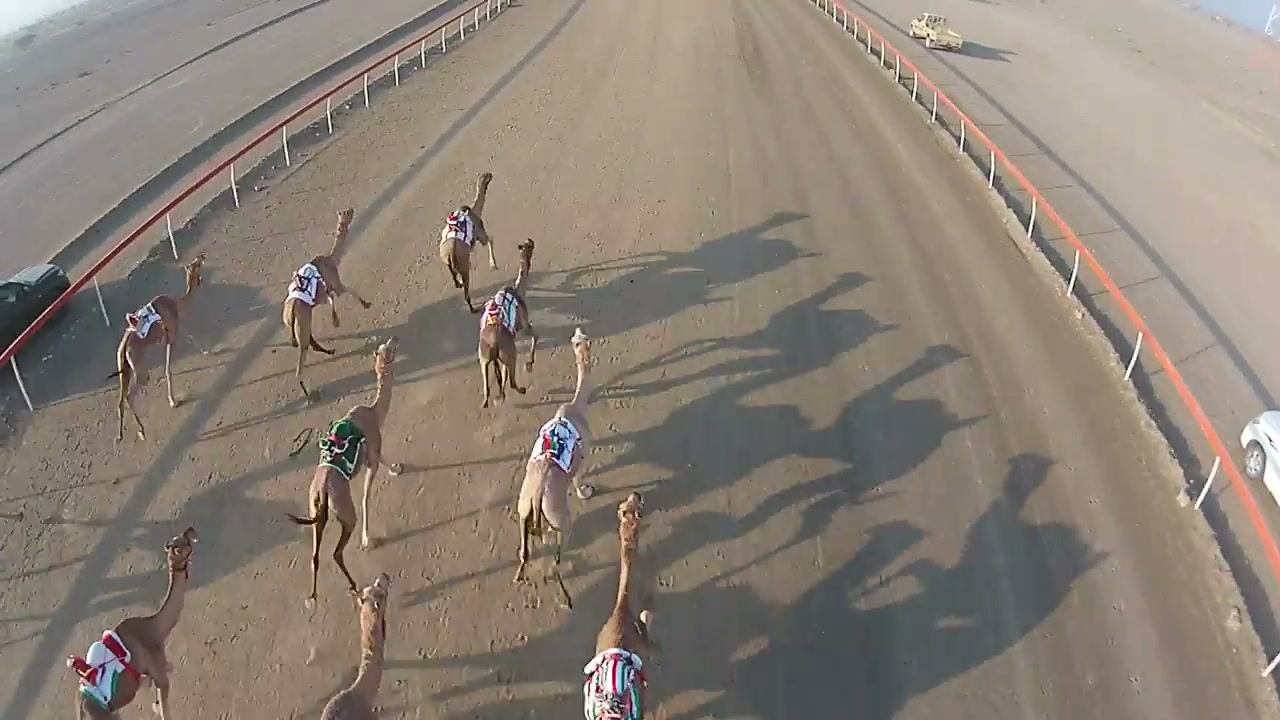animal_foot_print: (366, 382, 551, 704), (188, 415, 308, 704)
